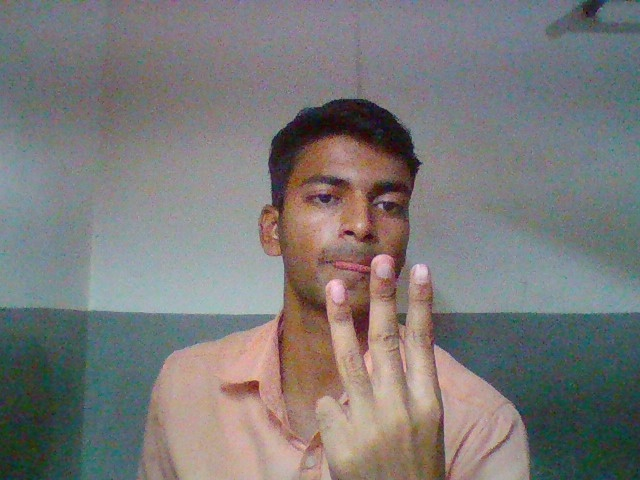W: (306, 254, 478, 480)
